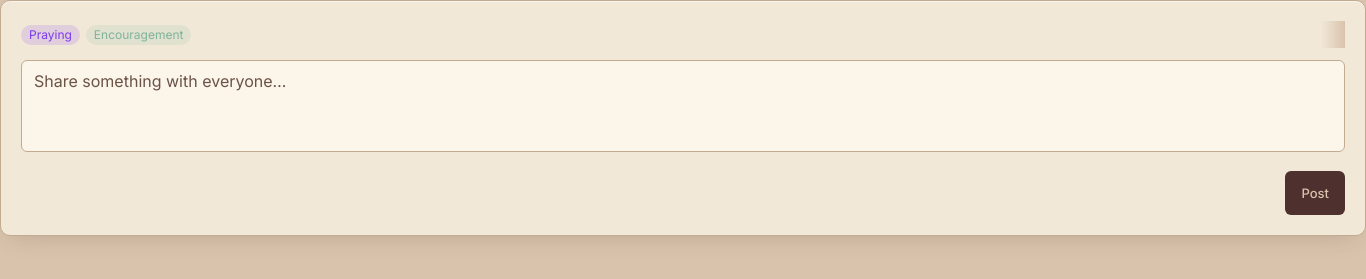
it: NewPostForm › rejects empty sticker selection
Type "Hello" into the text box named "post body" at (683, 106), box [21,60,1345,152]
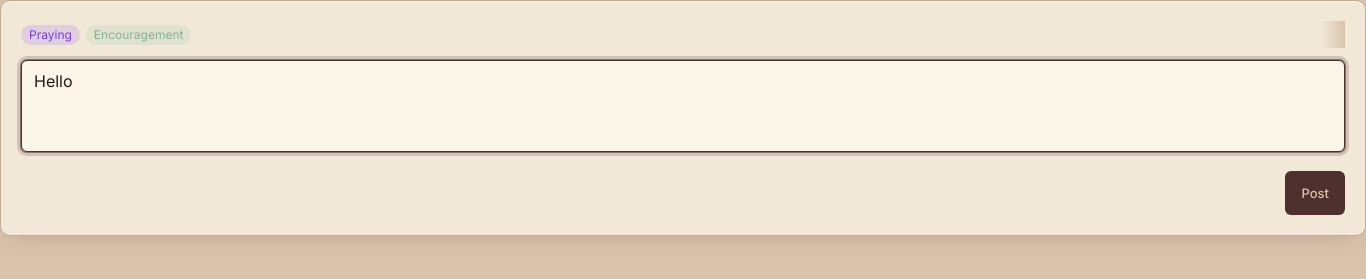
Click the button "Post" at (1315, 193), box [1286,171,1345,215]
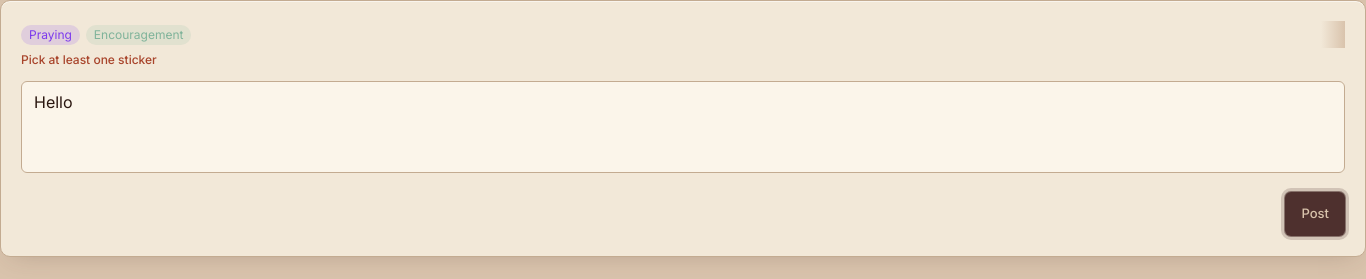
Check: the text "Pick at least one sticker" is shown, box [21,52,157,67]
